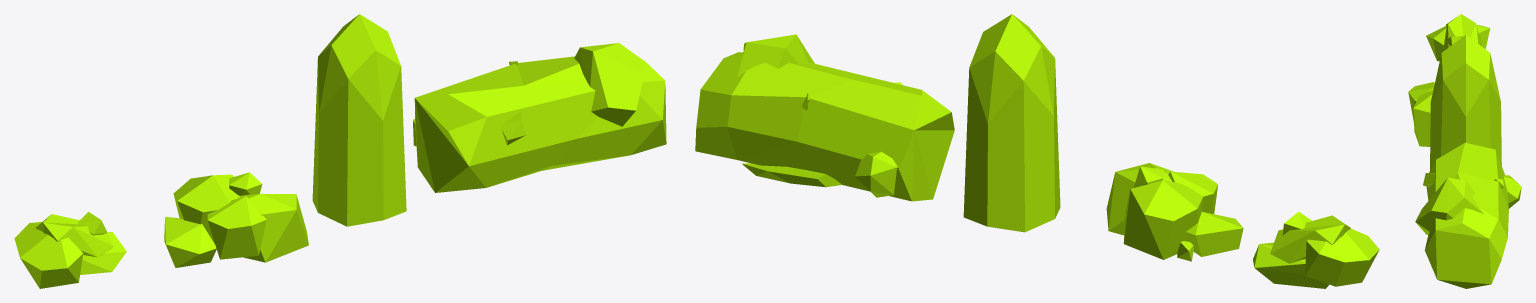
File: Bushes.fbx
3 views of the same model, side by side, from view 1: azimuth 30°, elevation 25°; view 2: azimuth 150°, elevation 25°; view 3: azimuth 270°, elevation 25° (orthographic). The views are drawn at different scales.
Visible parts, largest first — view 1: Bush D, Bush C, Bush A, Bush B; view 2: Bush D, Bush C, Bush A, Bush B; view 3: Bush D, Bush C, Bush B, Bush A.
Part boxes in pixels (x1,y1,x2,y2): Bush D: (413,43,666,192); Bush C: (312,14,406,226); Bush A: (164,172,308,267); Bush B: (14,212,126,288); Bush D: (695,34,954,201); Bush C: (963,14,1060,232); Bush A: (1106,163,1243,261); Bush B: (1253,211,1379,288); Bush D: (1415,142,1521,288); Bush C: (1430,35,1501,170); Bush B: (1426,14,1490,61); Bush A: (1408,82,1434,146).
Bounding box in the file's own units: 33758 × 10260 × 6987.
